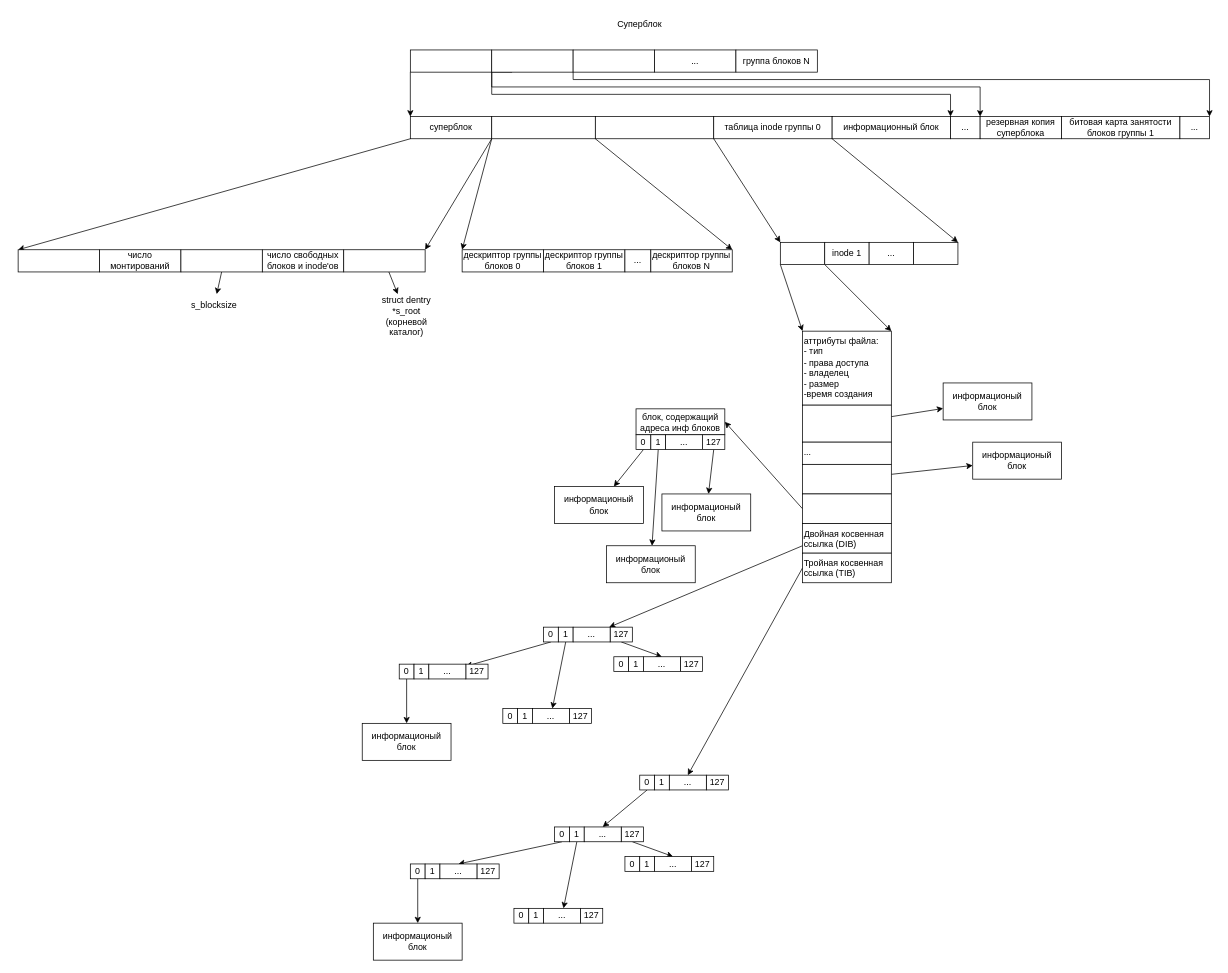
This 1228x973 diagram has some shape labels left out. Here are the shapes that lost their labels. From the top down, the centre of each, then its label:
(451,60): группа блоков 0
(532,60): группа блоков 1
(613,60): группа блоков 2
(543,127): таблица дескрипторов группы
(654,127): битовая карта занятости блоков группы 0
(58,260): заголовок, версия
(221,260): размер блока
(384,260): первый inode
(802,253): inode 0
(935,253): inode x
(846,423): адрес блока 0 прямой
(846,479): адрес блока 11 прямой
(846,508): Косвенная ссылка Inderect Block (IB)
